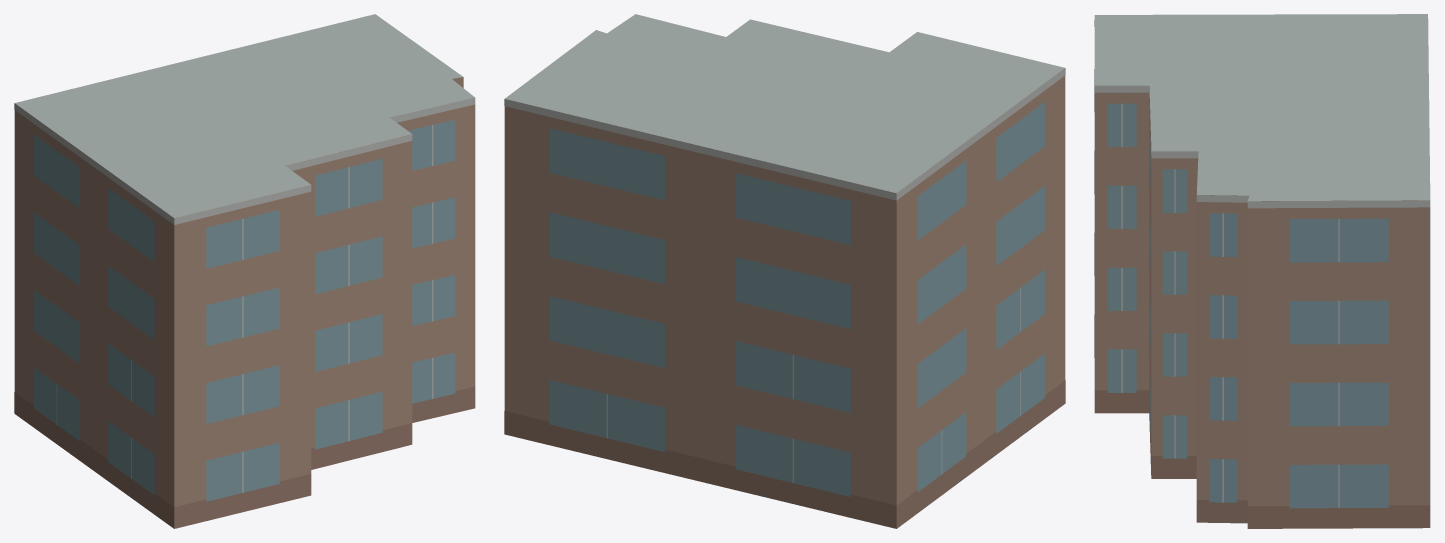
File: survey-upis-32791842.glb
3 views of the same model, side by side, from view 1: azimuth 30°, elevation 25°; view 2: azimuth 150°, elevation 25°; view 3: azimuth 270°, elevation 25° (orthographic). The views are drawn at different scales.
Parts seen in each view (by area): view 1: survey-upis-32791842.tmp; view 2: survey-upis-32791842.tmp; view 3: survey-upis-32791842.tmp.
Part boxes in pixels (x1,y1,x2,y2): survey-upis-32791842.tmp: (14,14,475,528); survey-upis-32791842.tmp: (504,14,1065,528); survey-upis-32791842.tmp: (1094,14,1430,528).
Size of the model in its own units: 13.79 by 11.25 by 10.46.
